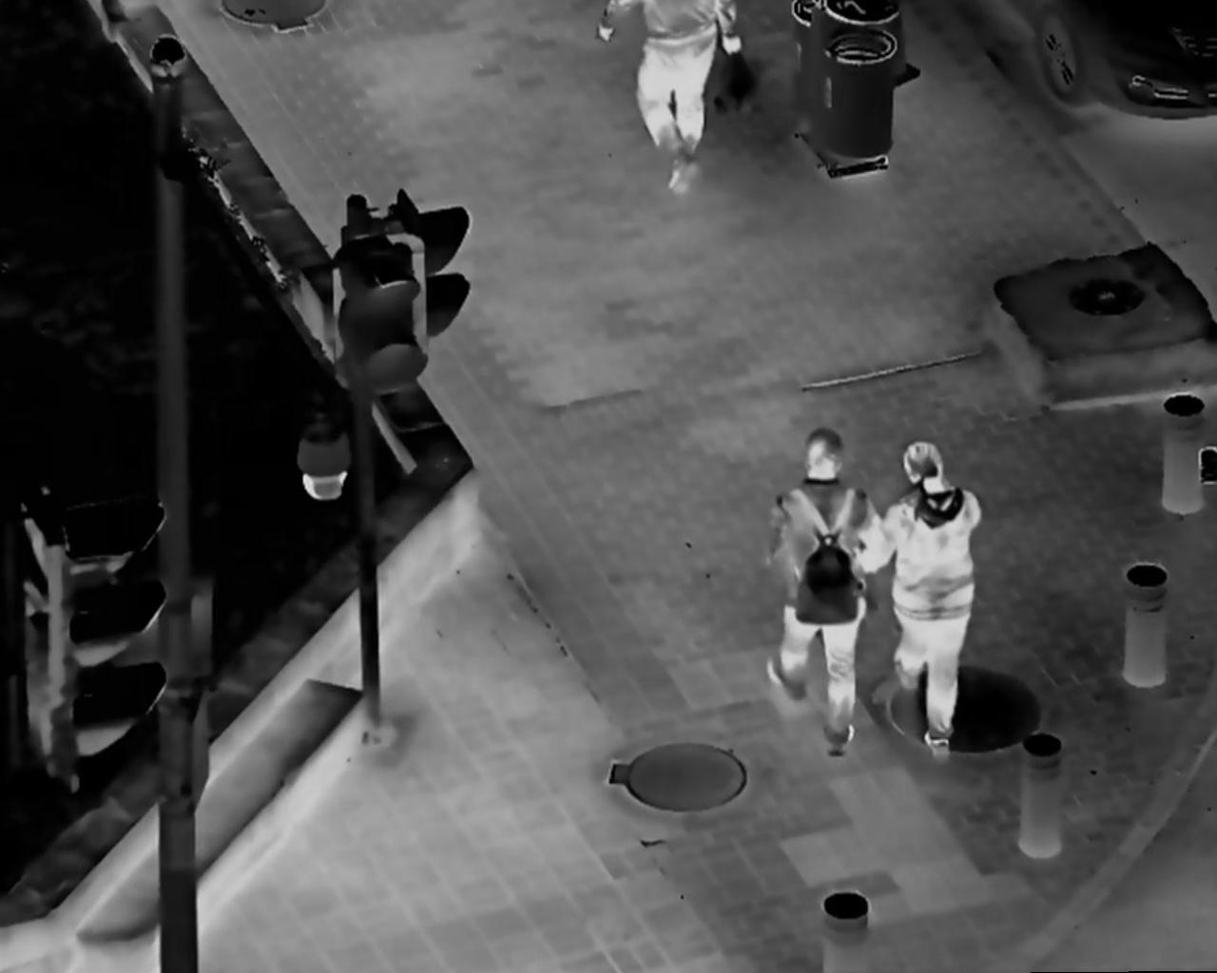person: (756, 424, 888, 762), (870, 431, 992, 774)
